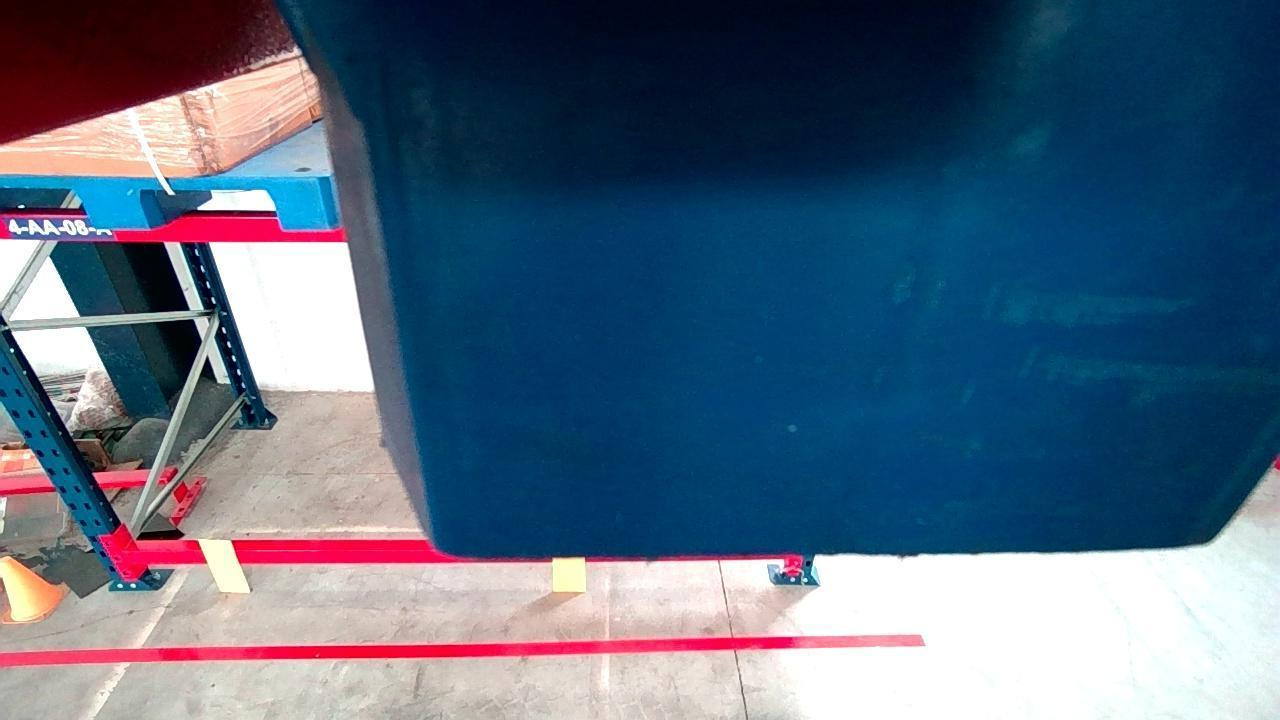h_rack: (0, 210, 348, 245), (122, 542, 449, 563)
orange_strip: (192, 539, 249, 591), (553, 553, 587, 592)
red_line: (0, 631, 924, 669)
small_pallet: (0, 172, 333, 228)
